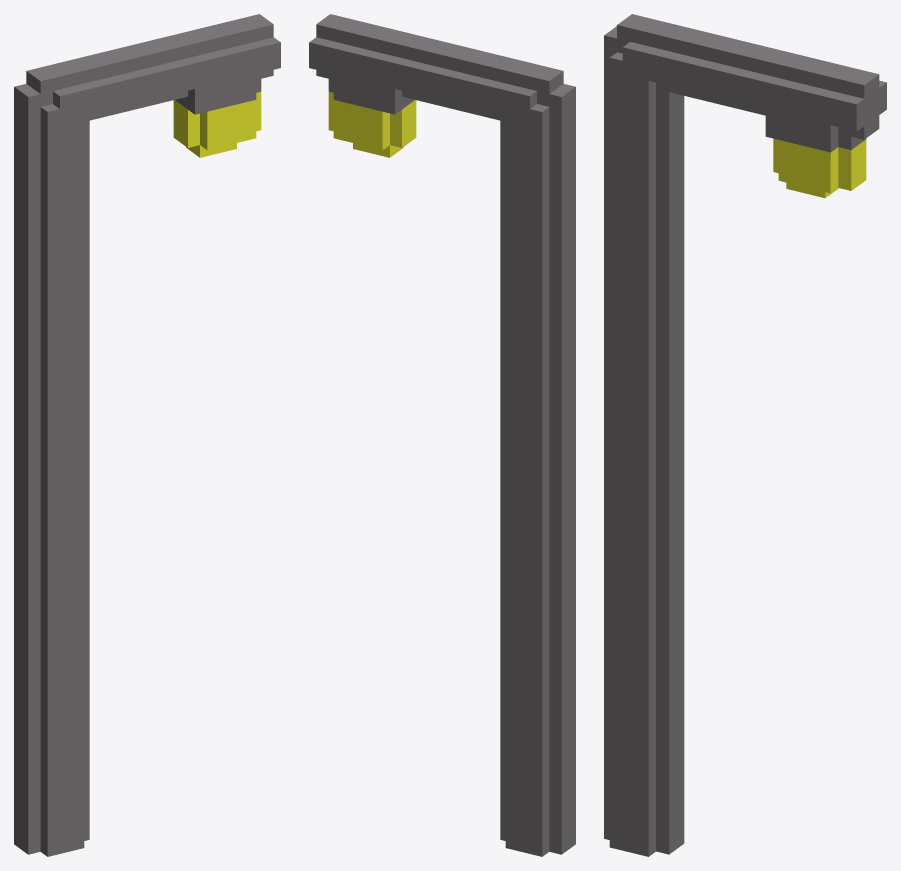
Rendered from Street-1-Lamppost.obj.
3 renders of one model, left to right at view 1: azimuth 30°, elevation 25°; view 2: azimuth 150°, elevation 25°; view 3: azimuth 330°, elevation 25°, orthographic. The views are drawn at different scales.
Parts seen in each view (by area): view 1: Lamppost; view 2: Lamppost; view 3: Lamppost.
Part boxes in pixels (bbox=[...]): Lamppost: bbox=[14, 14, 280, 856]; Lamppost: bbox=[309, 14, 575, 856]; Lamppost: bbox=[604, 14, 886, 856].
Bounding box in the file's own units: 2 × 6 × 0.4.
Materials: 1 (1 with a texture image).
